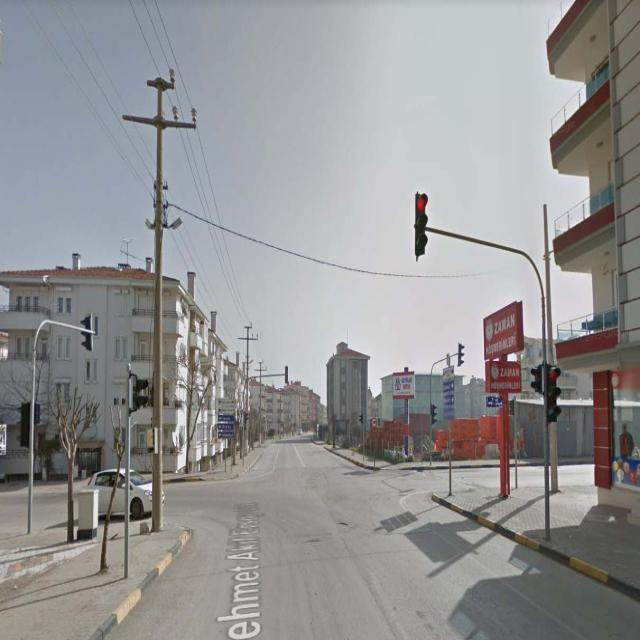kirmizi: (545, 366, 561, 421), (416, 193, 426, 256)
